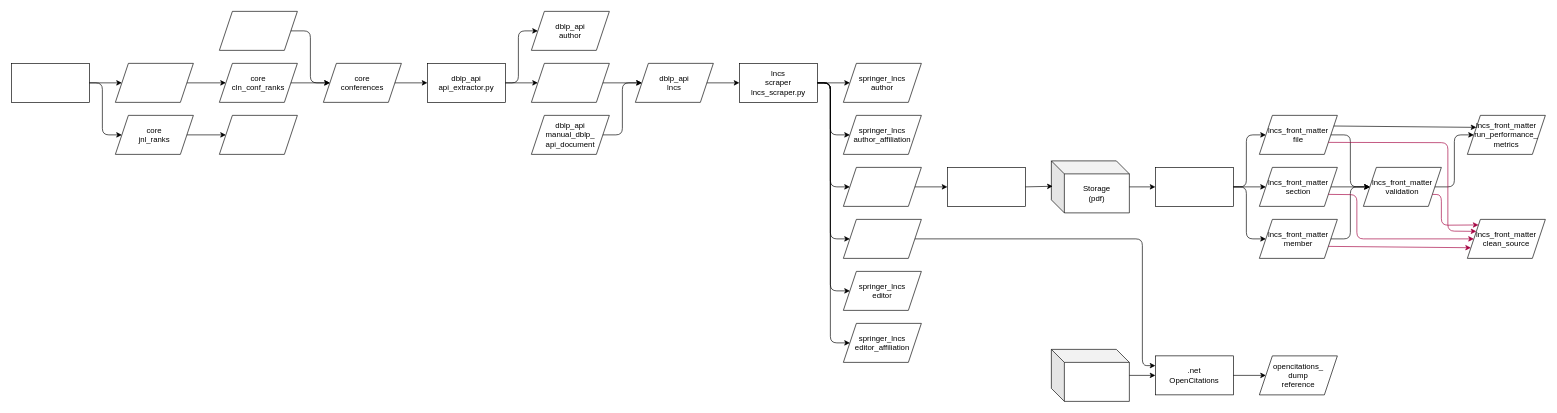
The diagram is 1557 pixels wide and 413 high, and some of its shapes have lost their labels. The shapes that lost their labels are listed below. From the top down, each one's centre as x and y in pixels, then its label:
(258,30): core manual_dblp_url
(50,82): core_scraper extractor.py
(154,82): core conf_ranks
(570,82): dblp_api document
(258,134): core cln_jnl_ranks
(882,186): springer_lncs book
(986,186): lncs front_matter_ download download.py
(1194,186): pdf_parser (Java)
(882,238): springer_lncs chapter
(1090,375): Storage (csv)
